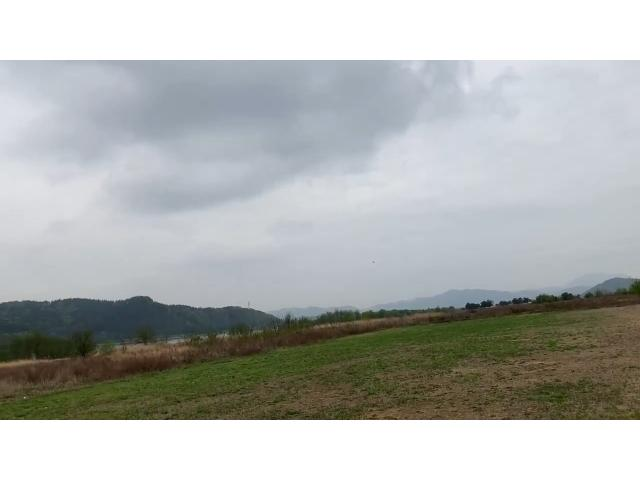Anti-Drone: (360, 253, 388, 271)
